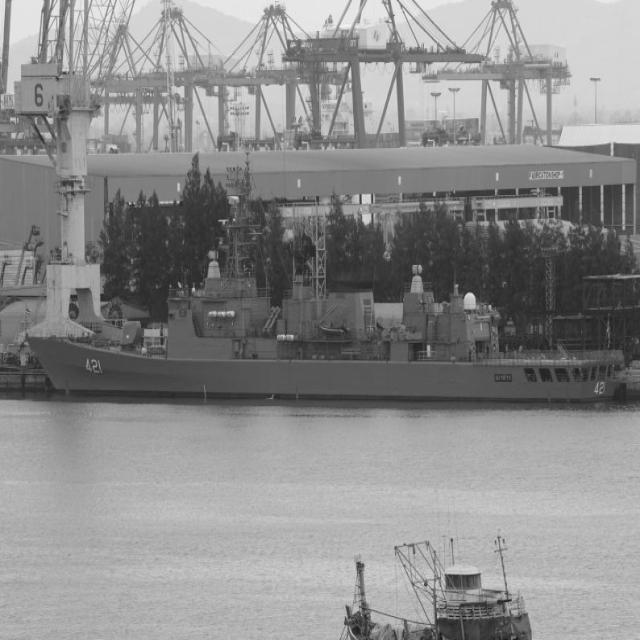Fragata: (25, 203, 627, 403)
